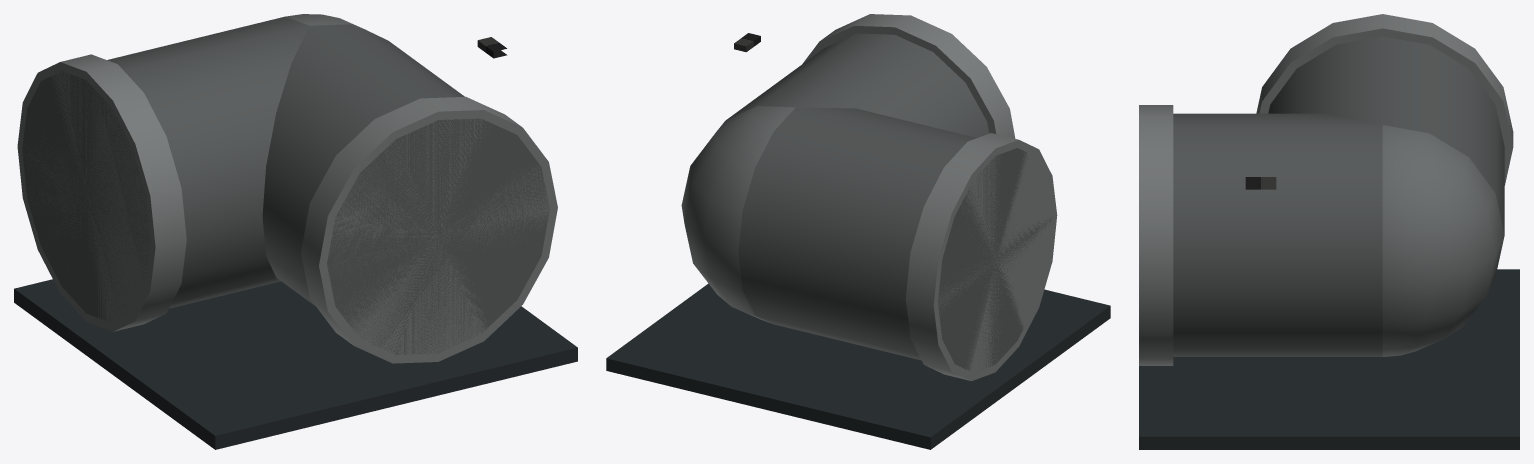
The model's file is CMU3DReduxDisposalBend.glb.
3 renders of one model, left to right at view 1: azimuth 30°, elevation 25°; view 2: azimuth 150°, elevation 25°; view 3: azimuth 270°, elevation 25°, orthographic. The views are drawn at different scales.
Parts seen in each view (by area): view 1: round S barrel, round W barrel, finite channel bottom, S coupling, W coupling, curved closed junction; view 2: round W barrel, finite channel bottom, W coupling, round S barrel, curved closed junction, S coupling; view 3: round S barrel, finite channel bottom, curved closed junction, round W barrel, S coupling, W coupling, source routing plate.
Boxes of the visible parts, x1,y1,x2,y2 form: round S barrel: (262, 24, 549, 354); round W barrel: (22, 16, 309, 321); finite channel bottom: (14, 279, 577, 449); S coupling: (301, 97, 557, 363); W coupling: (17, 54, 186, 331); curved closed junction: (285, 14, 383, 38); round W barrel: (738, 107, 1052, 370); finite channel bottom: (606, 283, 1110, 449); W coupling: (905, 133, 1057, 380); round S barrel: (726, 33, 989, 137); curved closed junction: (681, 106, 795, 323); S coupling: (802, 14, 1015, 138); round S barrel: (1173, 113, 1382, 356); finite channel bottom: (1139, 269, 1519, 449); curved closed junction: (1382, 125, 1504, 356); round W barrel: (1268, 36, 1504, 234); S coupling: (1139, 105, 1173, 365); W coupling: (1256, 14, 1513, 185); source routing plate: (1245, 177, 1276, 189).
Size of the model in its own units: 0.8125 by 0.608 by 0.7812.
Materials: 5 (1 with a texture image).
